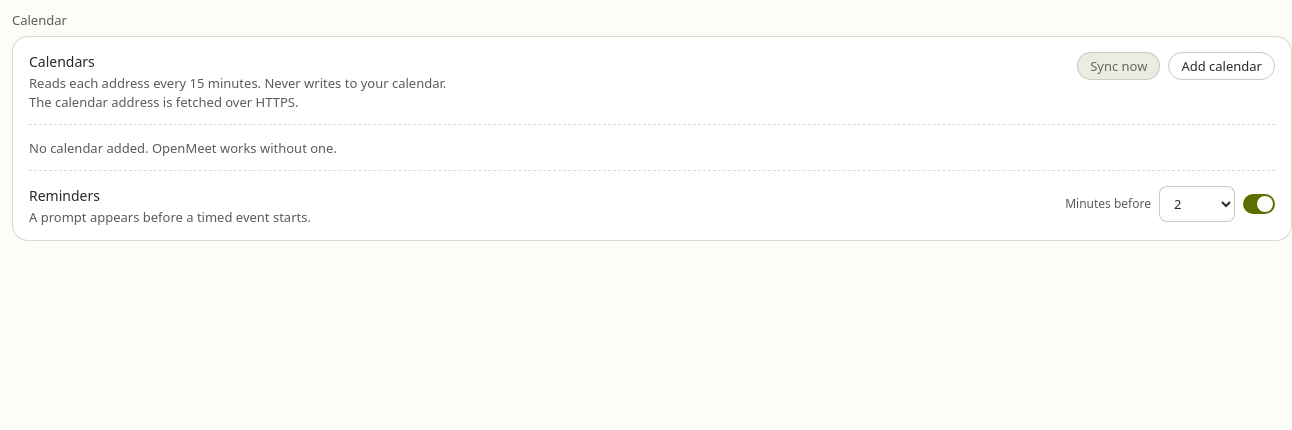
it: adds a calendar with the label and address, then clears the address field
The image size is (1292, 430).
Click the button "Add calendar" at (1222, 66), box [1168,52,1275,80]
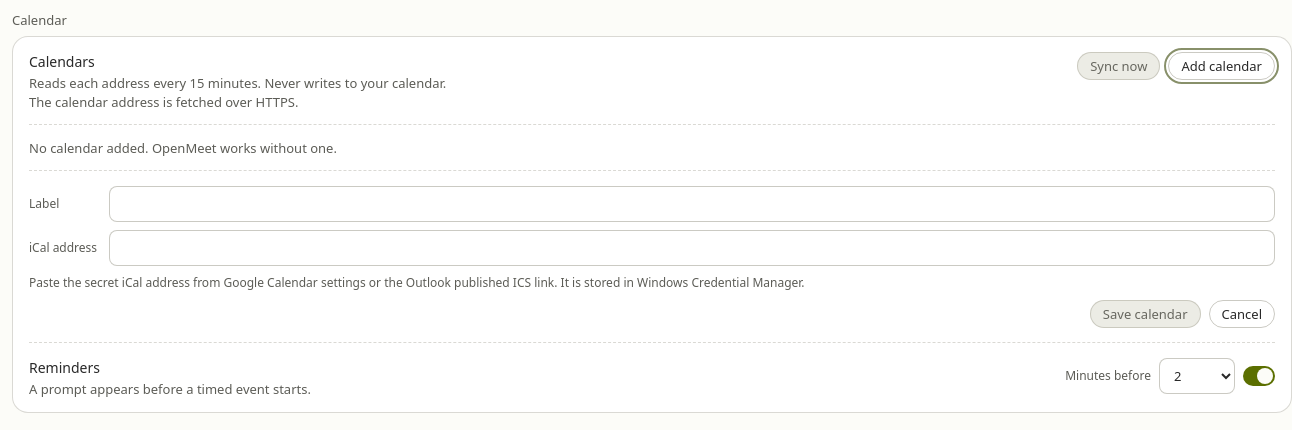
Type "Work calendar" into the field labelled "Label" at (692, 204), box [109,186,1275,222]
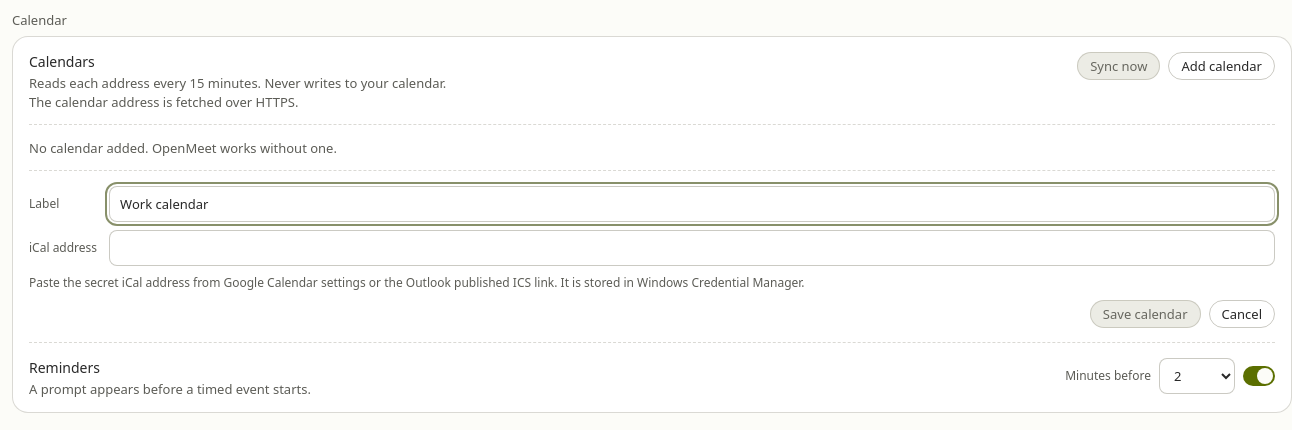
Type "https://calendar.example.test/private/basic.ics" into the field labelled "iCal address" at (692, 248), box [109,230,1275,266]
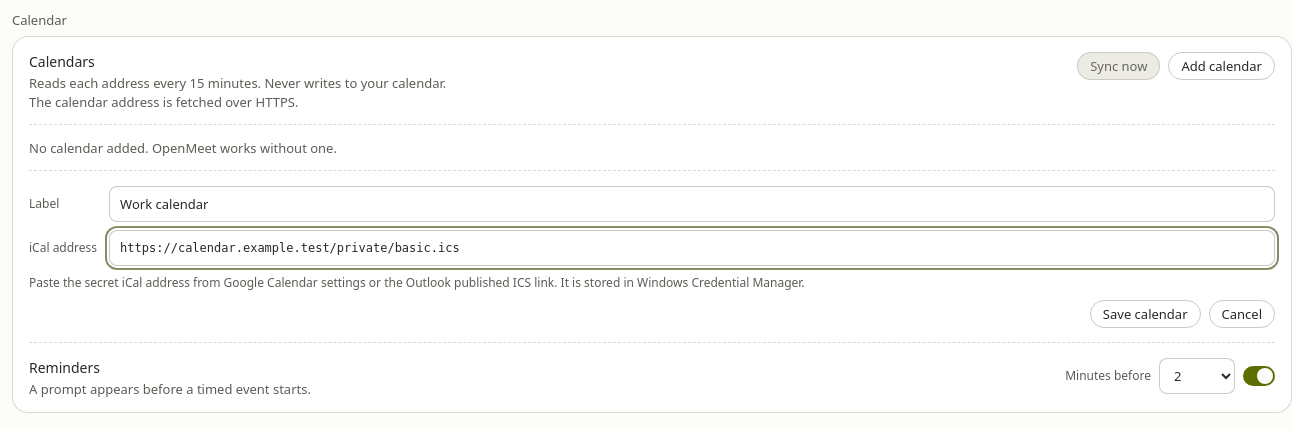
Click the button "Save calendar" at (1145, 314), box [1090,300,1201,328]
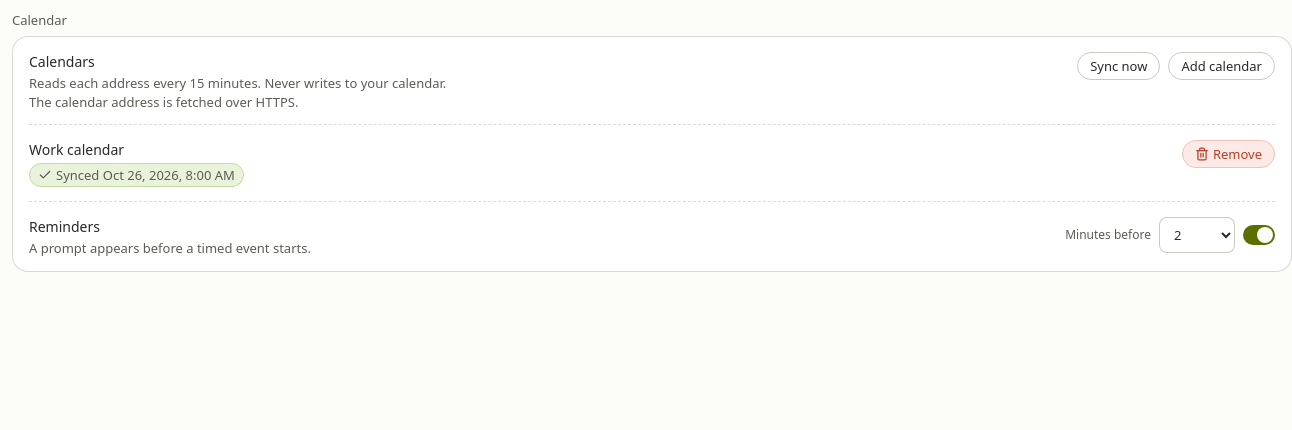
Check: the text "Work calendar" is shown, box [29,140,124,159]
